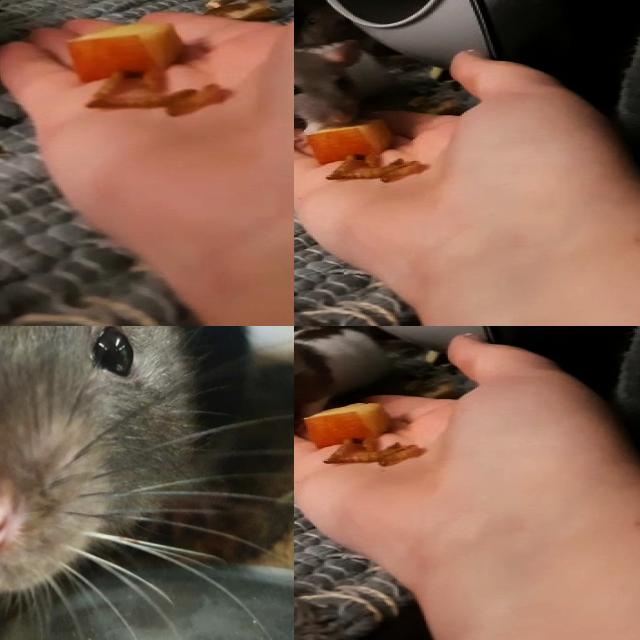rat: (0, 326, 243, 584), (294, 39, 400, 165), (294, 326, 393, 454)
